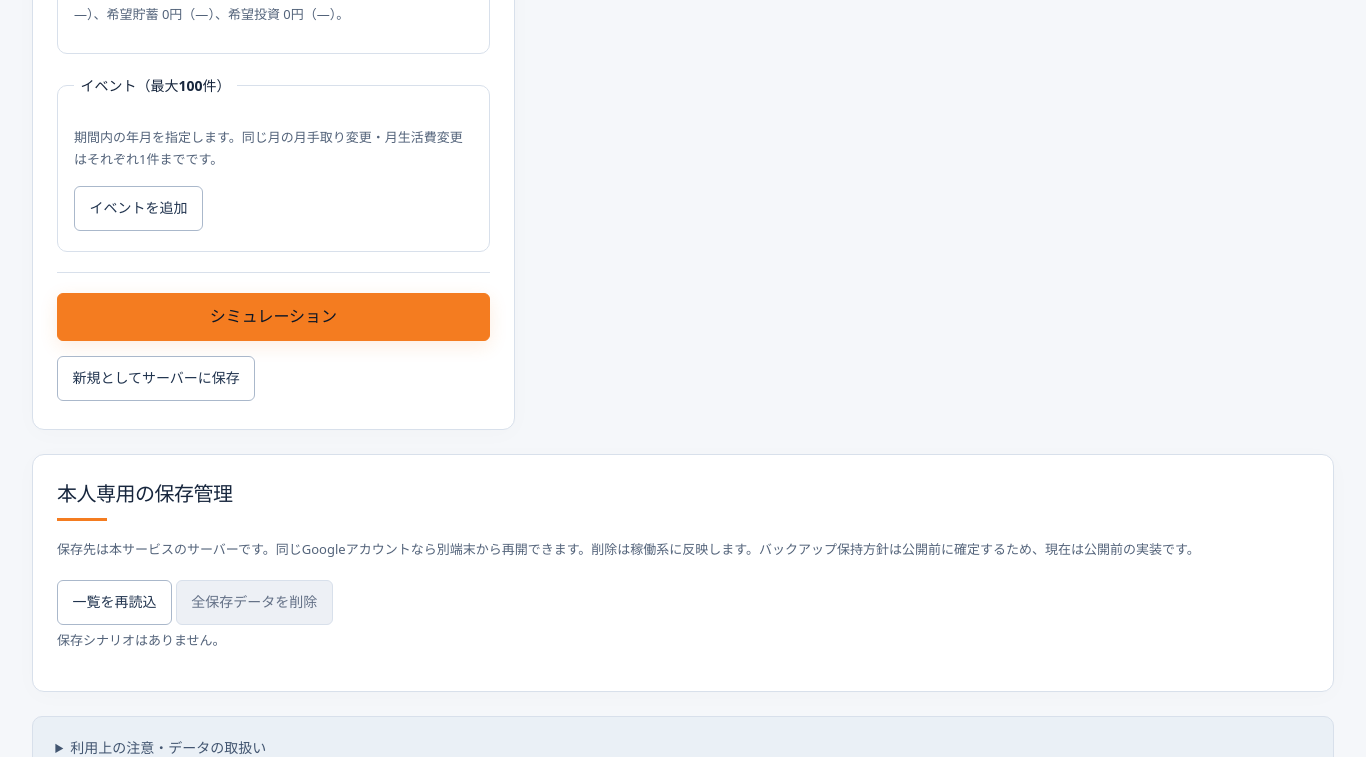
Scenario: session and response isolation › rejects malformed saved metadata without replacing current inputs
(page scrolled)
Check: the button "シミュレーション" is enabled, box [57, 293, 490, 341]
Click the button "新規としてサーバーに保存": (156,378) [57, 356, 255, 401]
(page scrolled)
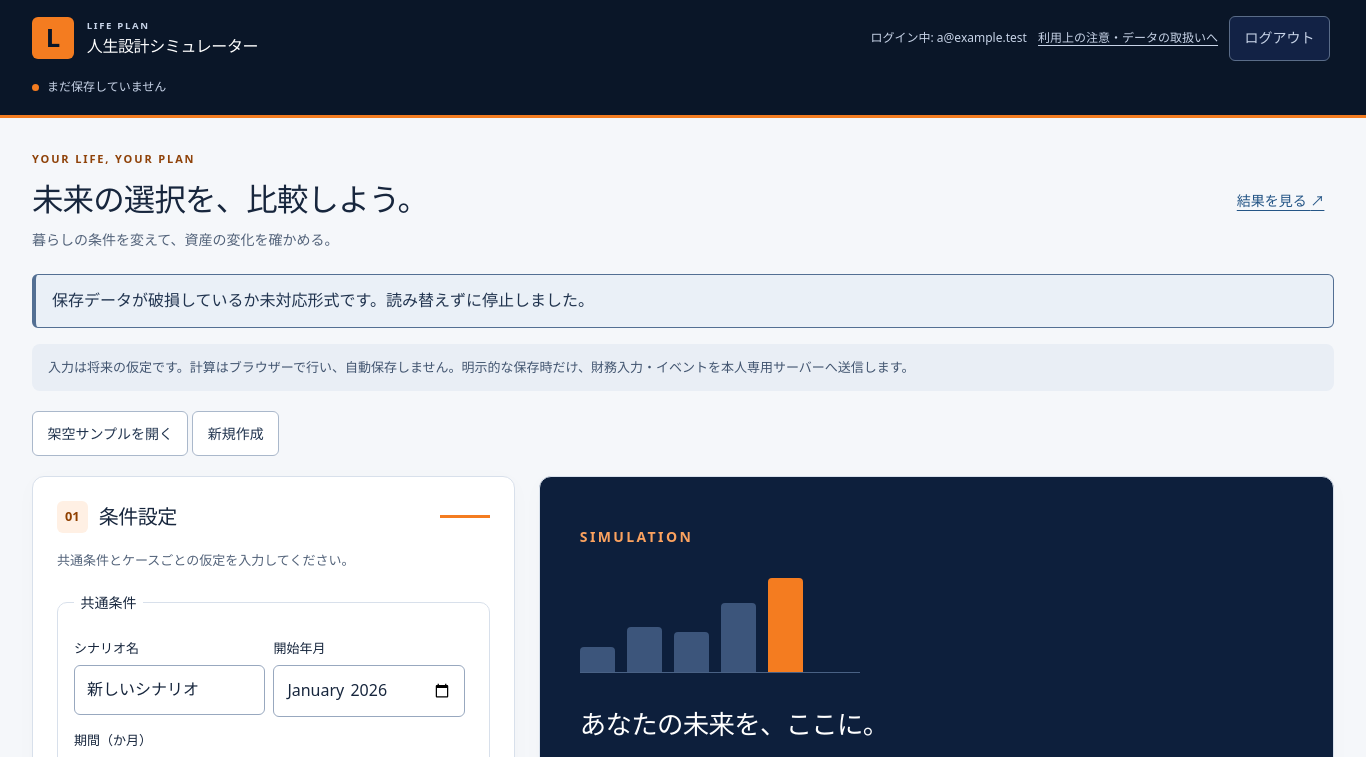
Check: the text "保存データが破損しているか未対応形式です。読み替えずに停止しました。" is shown, box [32, 274, 1334, 328]
